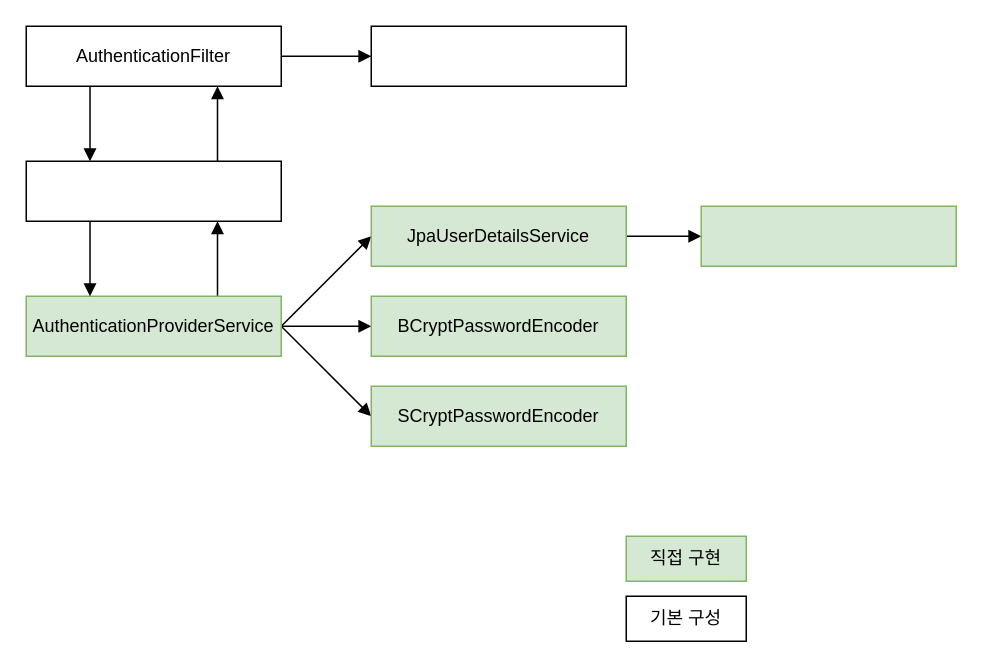
Image size: 983x668. Some labels were removed from this diagram. Each missing label, with the box of its shape:
AuthenticationManager: (25, 160, 281, 221)
SecurityContext: (370, 25, 626, 86)
UserRepository: (700, 205, 956, 266)
